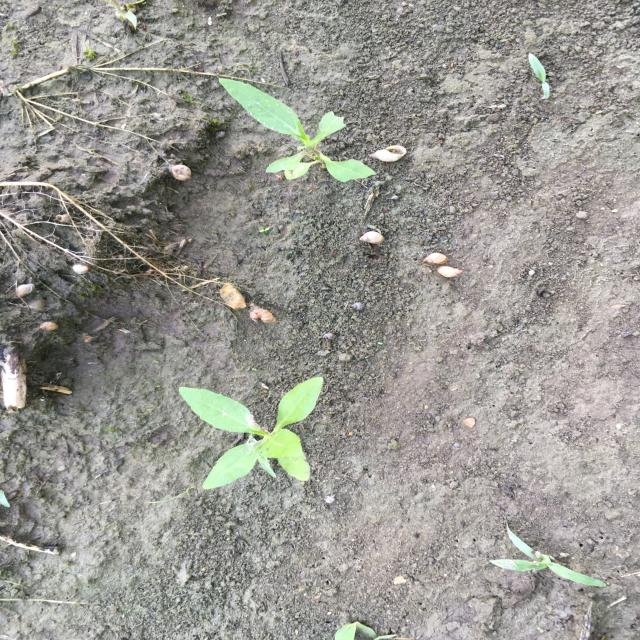Eclipta: (218, 77, 383, 186), (177, 374, 327, 491)
